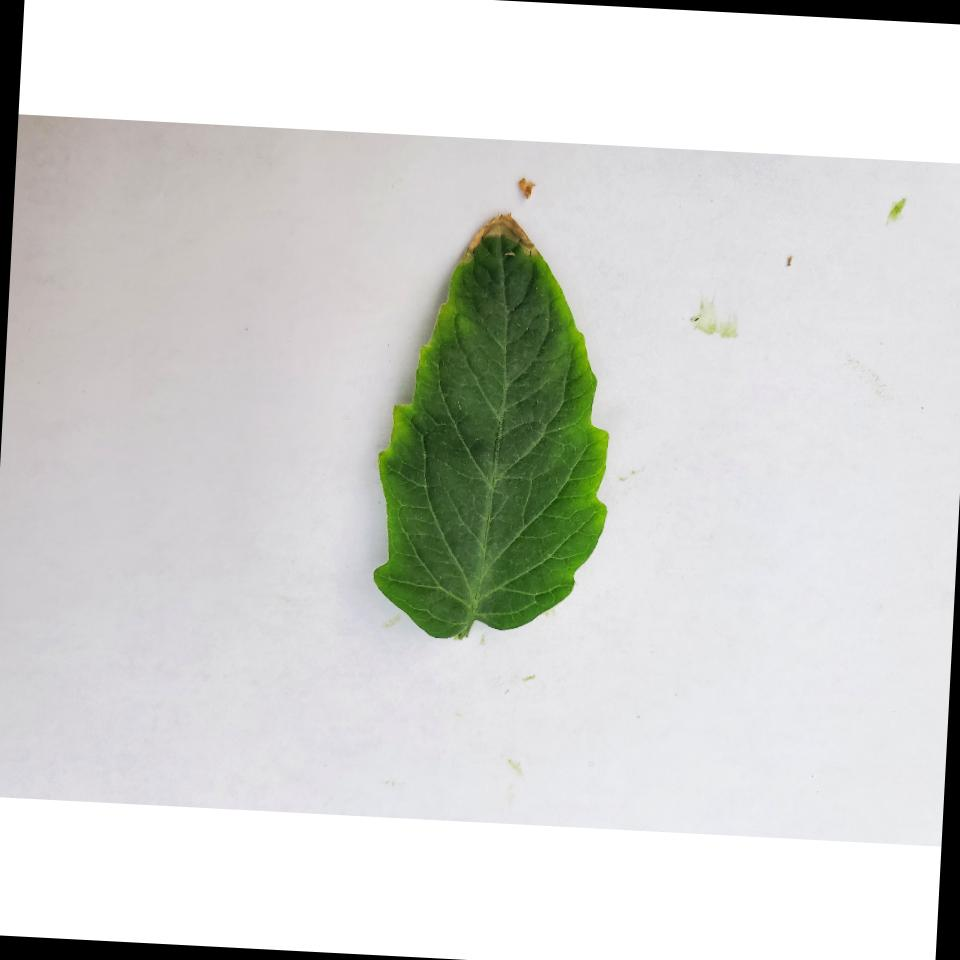tomato_leaves: (364, 204, 630, 644)
